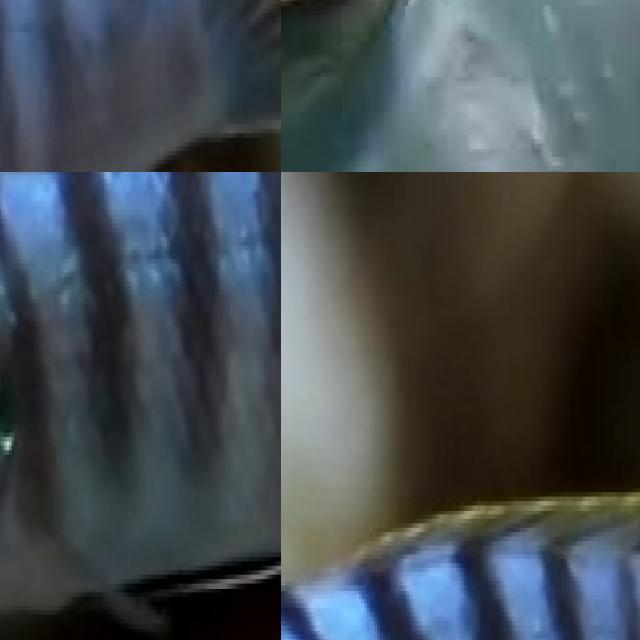fish: (0, 0, 281, 172)
